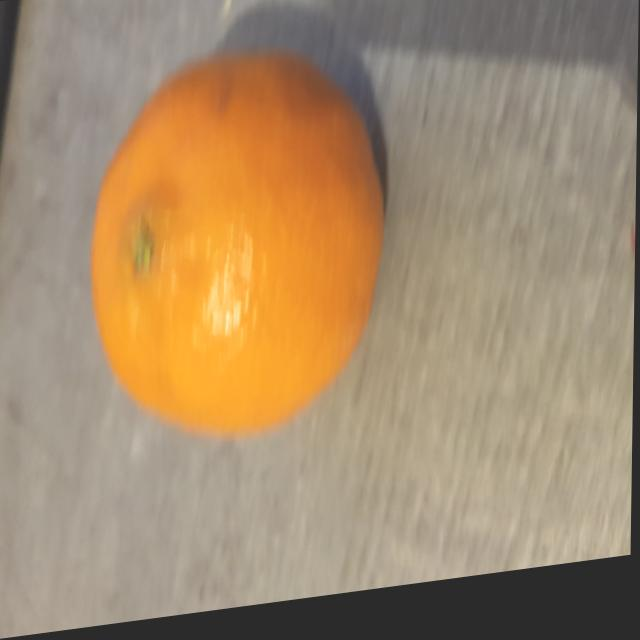Orange: (92, 53, 388, 446)
